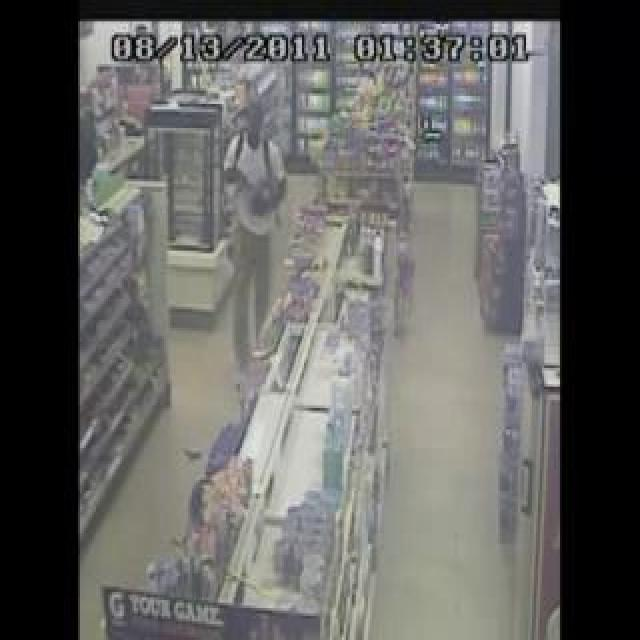thief: (242, 112, 289, 208)
